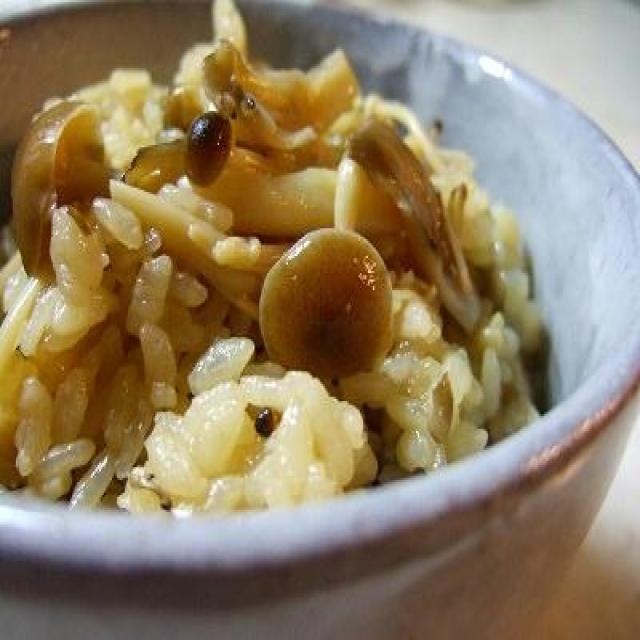米饭主食: (2, 44, 540, 490)
